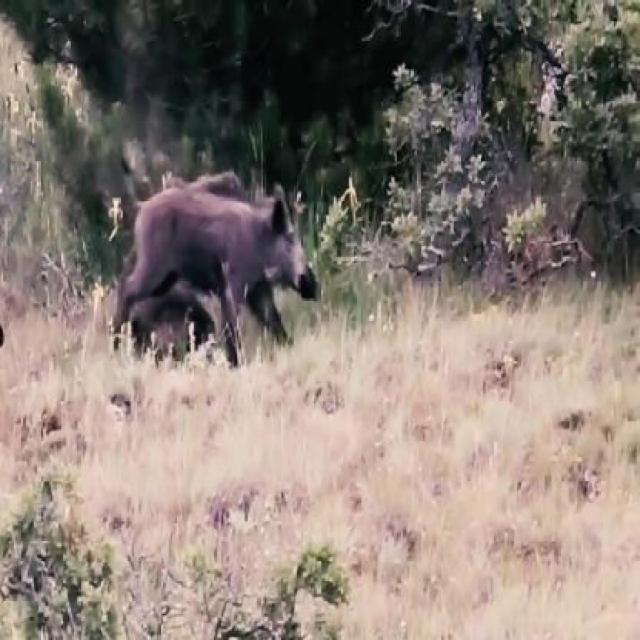Boar: (129, 98, 331, 437)
